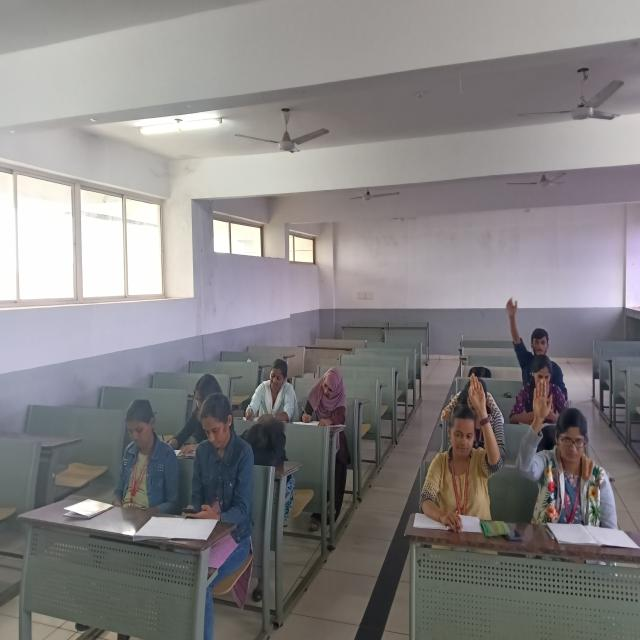Hand Rising: (415, 368, 503, 528), (519, 379, 602, 515), (504, 294, 567, 390)
Sleeping: (235, 420, 301, 498)
Using Phone: (180, 392, 254, 531), (111, 395, 177, 517)
Writing: (155, 370, 221, 461), (297, 364, 353, 439), (240, 355, 298, 427)
